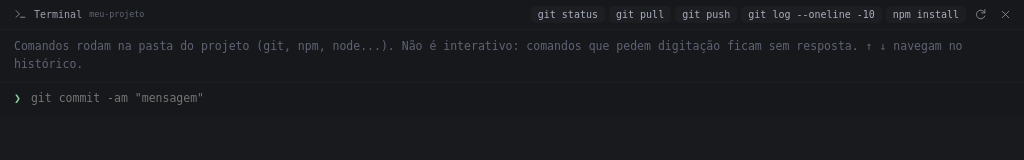
Test: Terminal › na prévia não executa nada
In the field named "Comando do terminal": (519, 98) [29,89,1010,108], type "ls"
Then press Enter
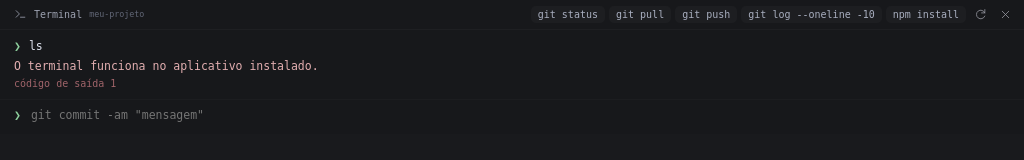
Now the text "O terminal funciona no aplicativo instalado." is shown, box [14,59,319,73]
